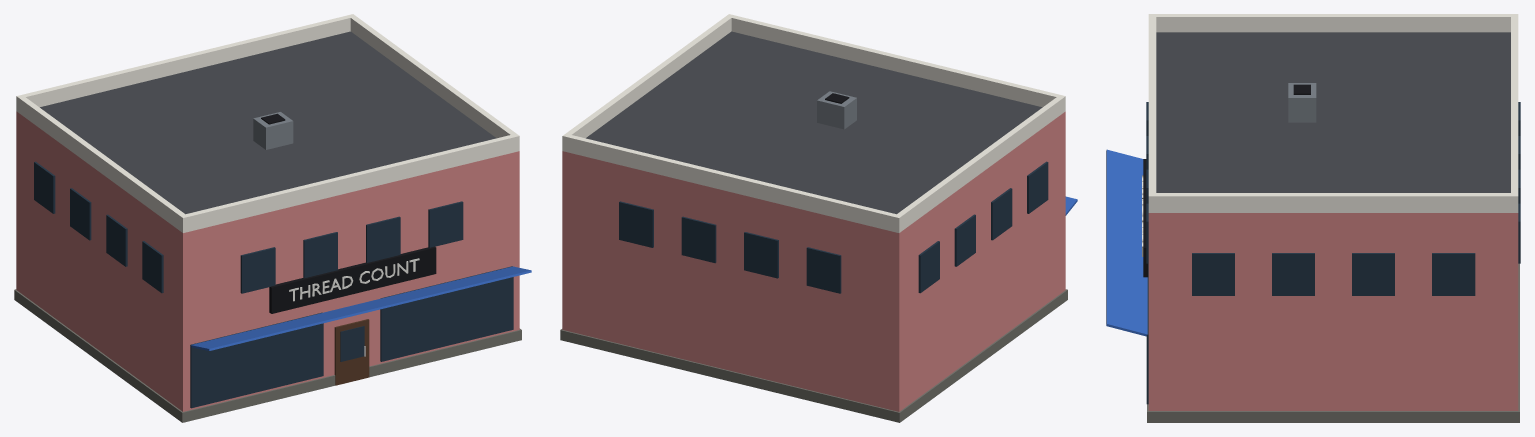
The model's file is shop_clothes.glb.
3 renders of one model, left to right at view 1: azimuth 30°, elevation 25°; view 2: azimuth 150°, elevation 25°; view 3: azimuth 270°, elevation 25°, orthographic. The views are drawn at different scales.
Parts seen in each view (by area): view 1: shop_clothes_Body, shop_clothes_SignBoard, shop_clothes_Sign; view 2: shop_clothes_Body; view 3: shop_clothes_Body, shop_clothes_SignBoard.
Part boxes in pixels (bbox=[...]): shop_clothes_Body: bbox=[14, 14, 531, 422]; shop_clothes_SignBoard: bbox=[269, 246, 436, 313]; shop_clothes_Sign: bbox=[289, 258, 419, 301]; shop_clothes_Body: bbox=[560, 14, 1077, 422]; shop_clothes_Body: bbox=[1106, 14, 1520, 422]; shop_clothes_SignBoard: bbox=[1143, 159, 1148, 277].
Bounding box in the file's own units: 14.16 × 8.49 × 13.46.
